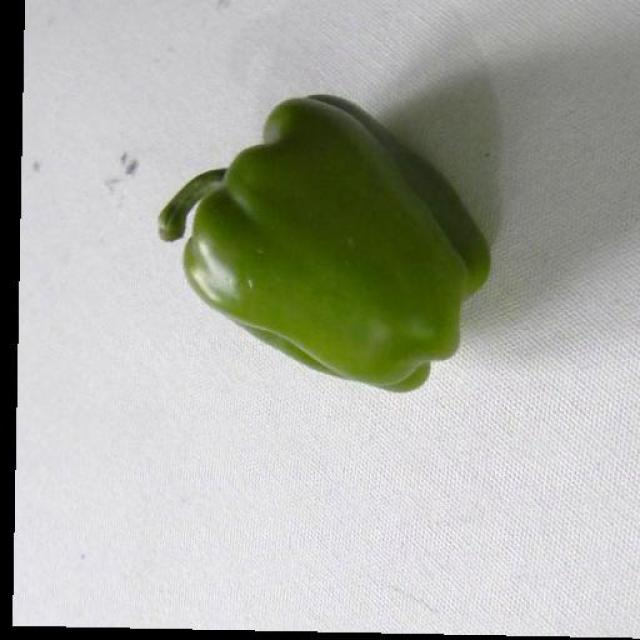Fresh_Capsicum: (185, 106, 460, 399)
